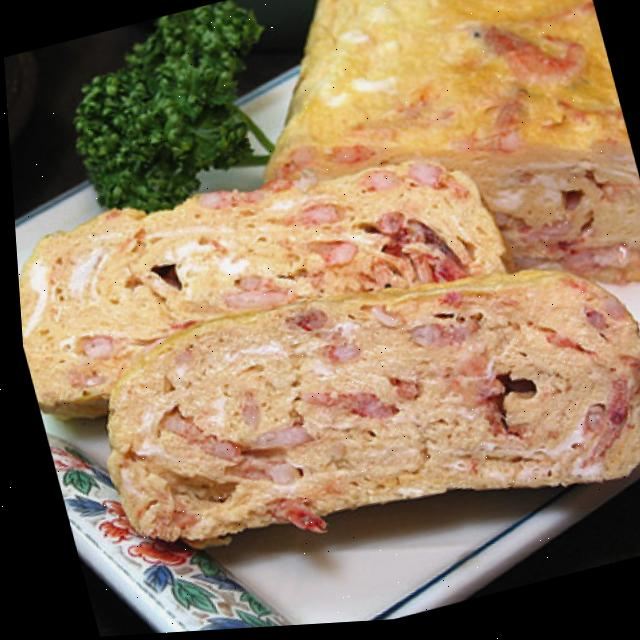鸡蛋料理: (10, 113, 640, 640)
